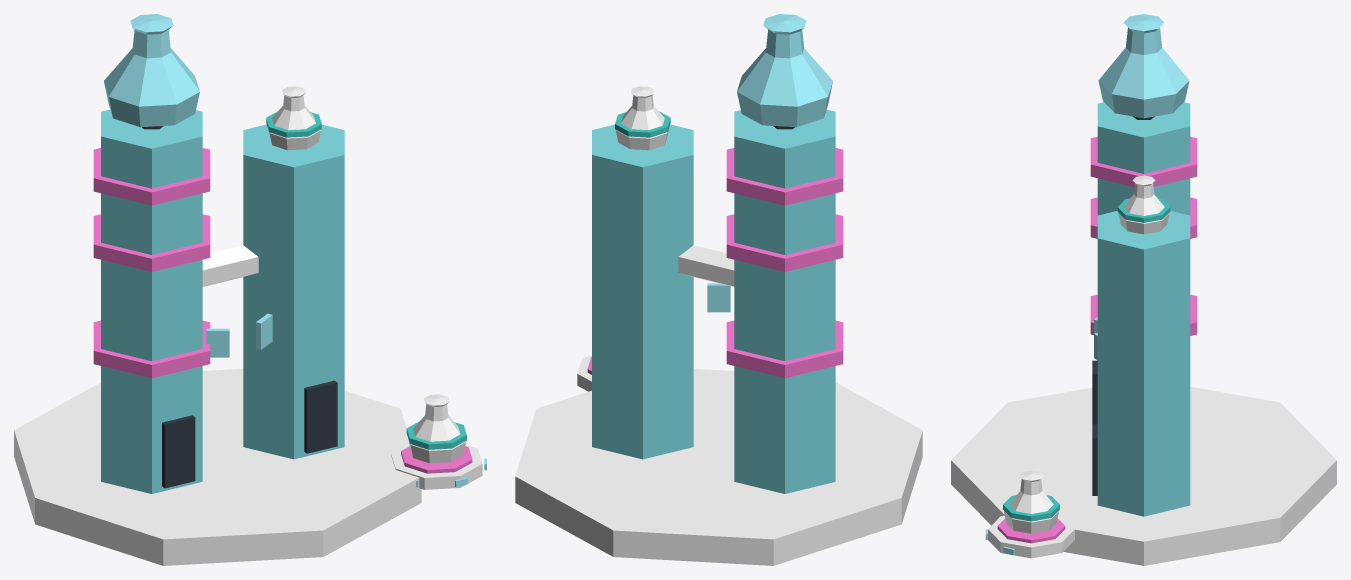
Rendered from lab-landmark-s3.glb.
3 views of the same model, side by side, from view 1: azimuth 30°, elevation 25°; view 2: azimuth 150°, elevation 25°; view 3: azimuth 270°, elevation 25° (orthographic). The views are drawn at different scales.
Visible parts, largest first — view 1: lab-landmark-s3; view 2: lab-landmark-s3; view 3: lab-landmark-s3.
Boxes of the visible parts, x1,y1,x2,y2 form: lab-landmark-s3: (14,14,486,565); lab-landmark-s3: (515,14,922,565); lab-landmark-s3: (951,14,1336,565).
Size of the model in its own units: 1.5 by 1.79 by 1.44.
